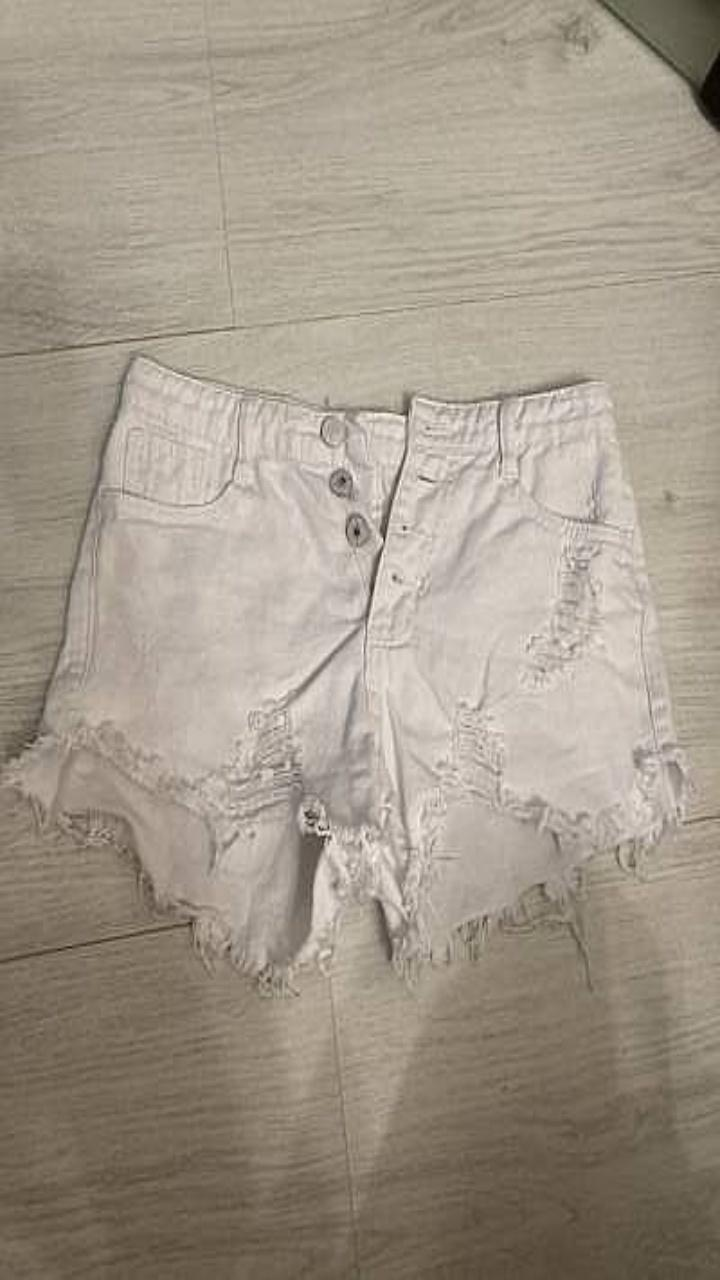Shorts: (0, 355, 688, 992)
